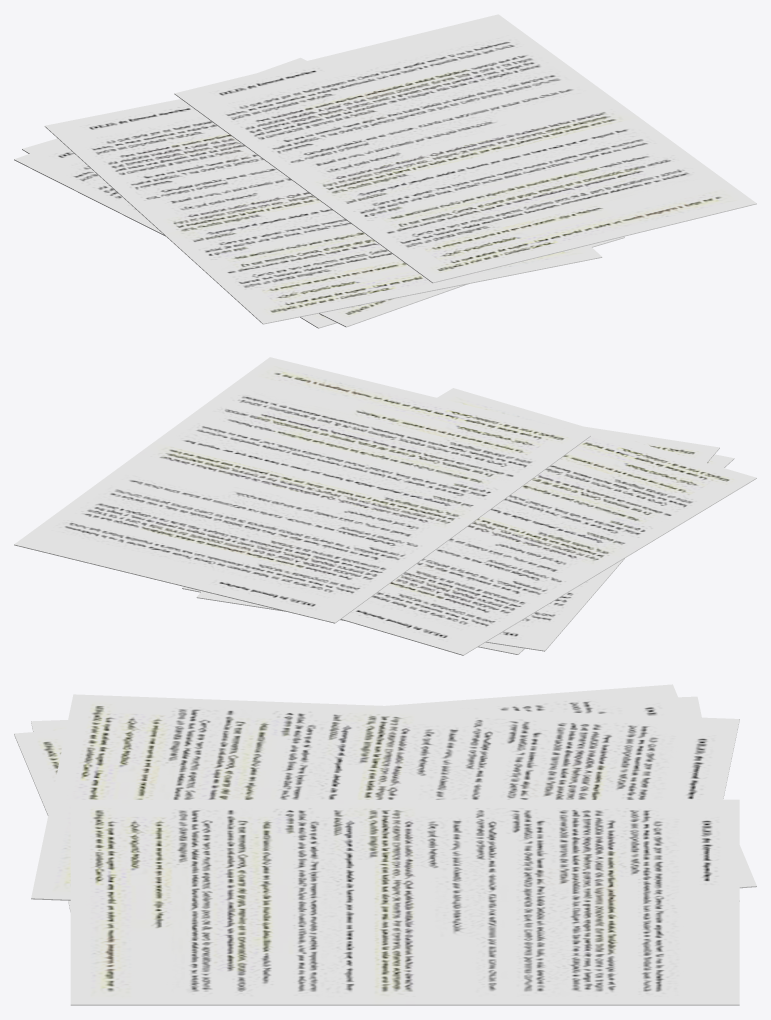
Rendered from paper2.FBX.
3 views of the same model, one above another, from view 1: azimuth 30°, elevation 25°; view 2: azimuth 150°, elevation 25°; view 3: azimuth 270°, elevation 25° (orthographic). The views are drawn at different scales.
Parts seen in each view (by area): view 1: paper 2; view 2: paper 2; view 3: paper 2.
Boxes of the visible parts, bbox=[...] form: paper 2: bbox=[14, 14, 756, 328]; paper 2: bbox=[14, 357, 756, 655]; paper 2: bbox=[14, 684, 756, 1005].
Bounding box in the file's own units: 33.06 × 0.2087 × 32.21.
1 material, 1 textured.
